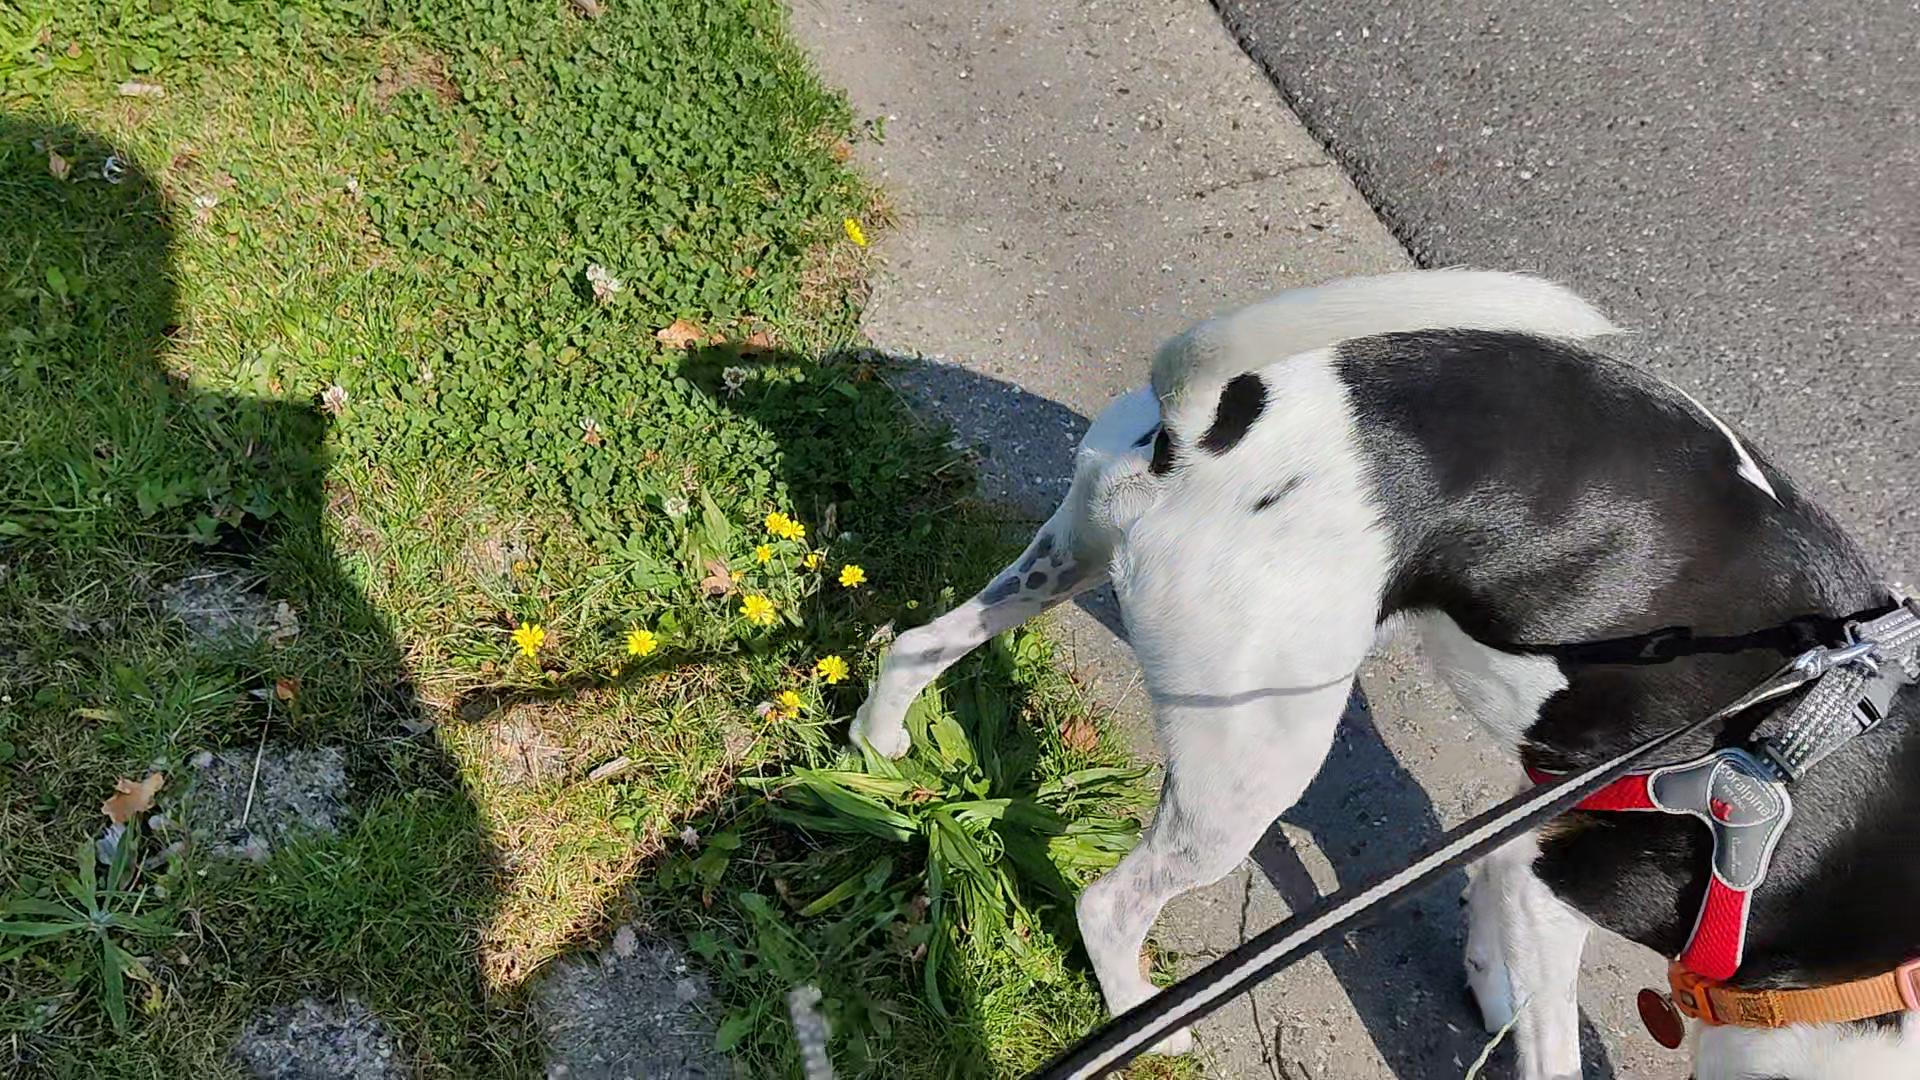Dog: (843, 258, 1919, 1079)
